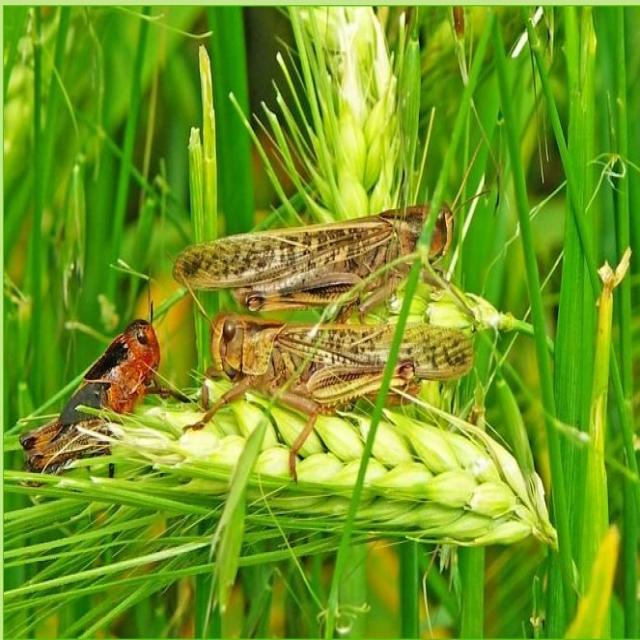ZhaMeng: (198, 303, 504, 426), (170, 198, 458, 302)
